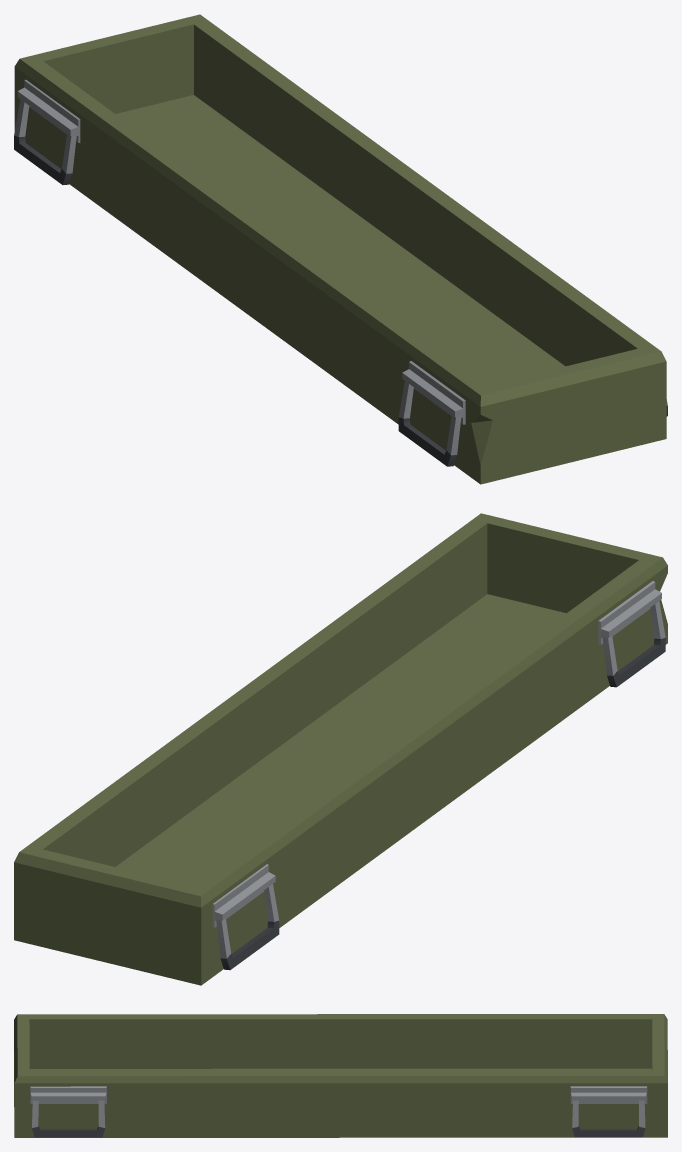
File: SM_Prop_Missle_Crate_02.glb
3 renders of one model, top to bottom at view 1: azimuth 30°, elevation 25°; view 2: azimuth 150°, elevation 25°; view 3: azimuth 270°, elevation 25°, orthographic. The views are drawn at different scales.
Visible parts, largest first — view 1: SM_Prop_Missle_Crate_02; view 2: SM_Prop_Missle_Crate_02; view 3: SM_Prop_Missle_Crate_02.
Boxes of the visible parts, <box> form: SM_Prop_Missle_Crate_02: <box>14,14,667,484</box>; SM_Prop_Missle_Crate_02: <box>14,513,667,985</box>; SM_Prop_Missle_Crate_02: <box>14,1014,667,1137</box>.
Bounding box in the file's own units: 0.4068 × 0.1548 × 1.51.
1 material, 1 textured.
